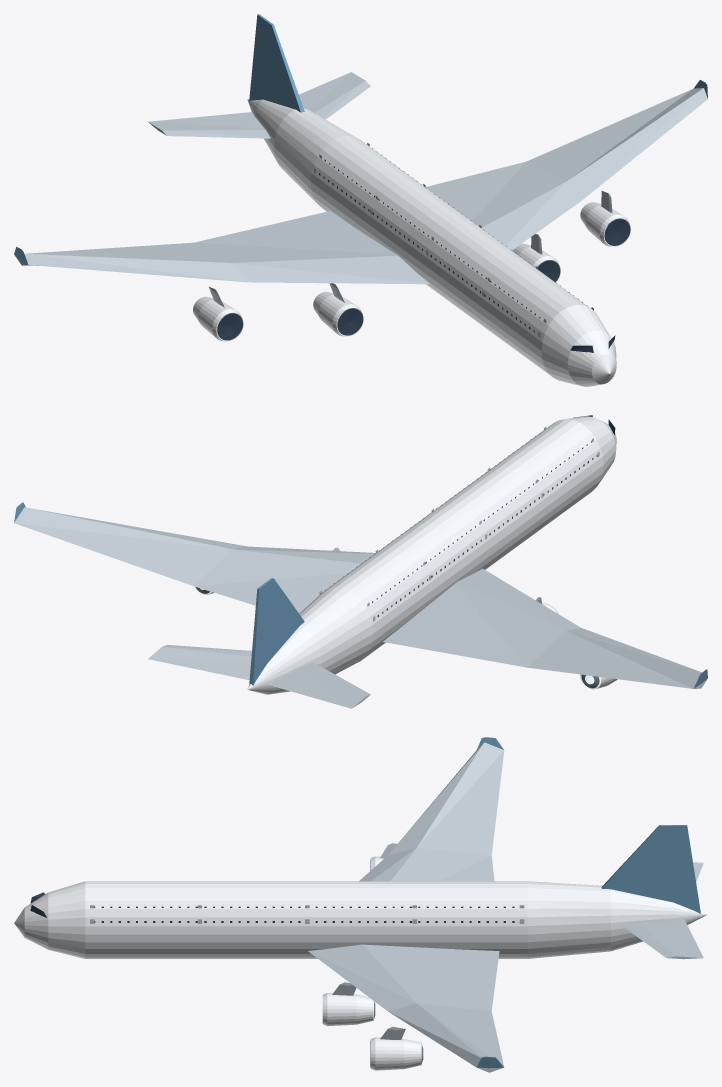
The picture shows the model from 3 angles, top to bottom: view 1: azimuth 30°, elevation 25°; view 2: azimuth 150°, elevation 25°; view 3: azimuth 270°, elevation 25°; orthographic projection. The views are drawn at different scales.
Bounding box in the file's own units: 79.5 × 17.79 × 73.
